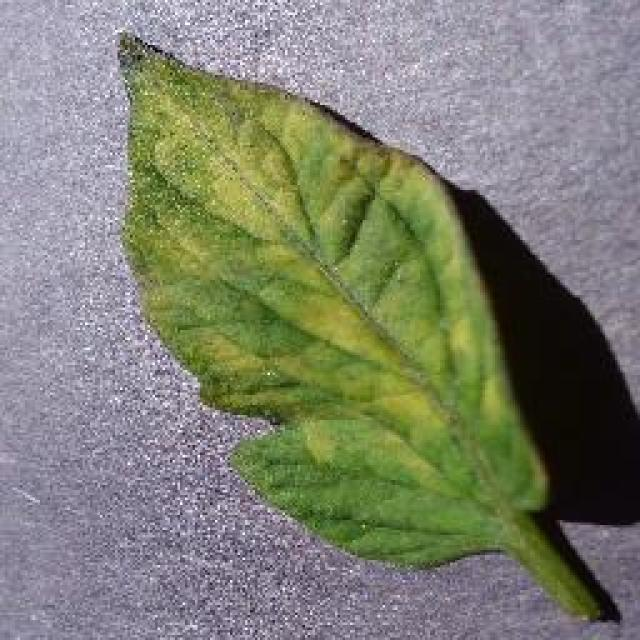Tom_Leaf_Mold: (146, 91, 410, 311)
